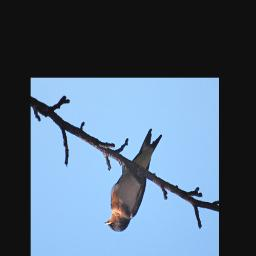Swallow: (104, 128, 162, 232)
